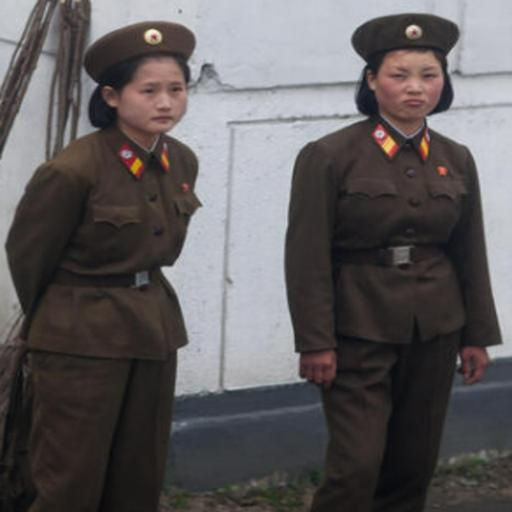north army: (7, 8, 250, 455), (301, 22, 511, 512)
